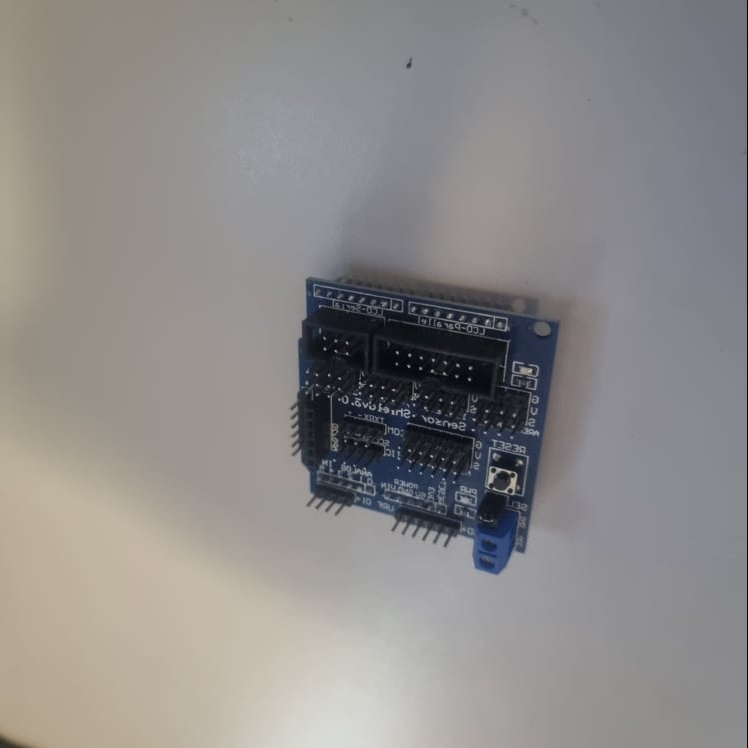5V EXPANSION: (291, 273, 561, 580)
